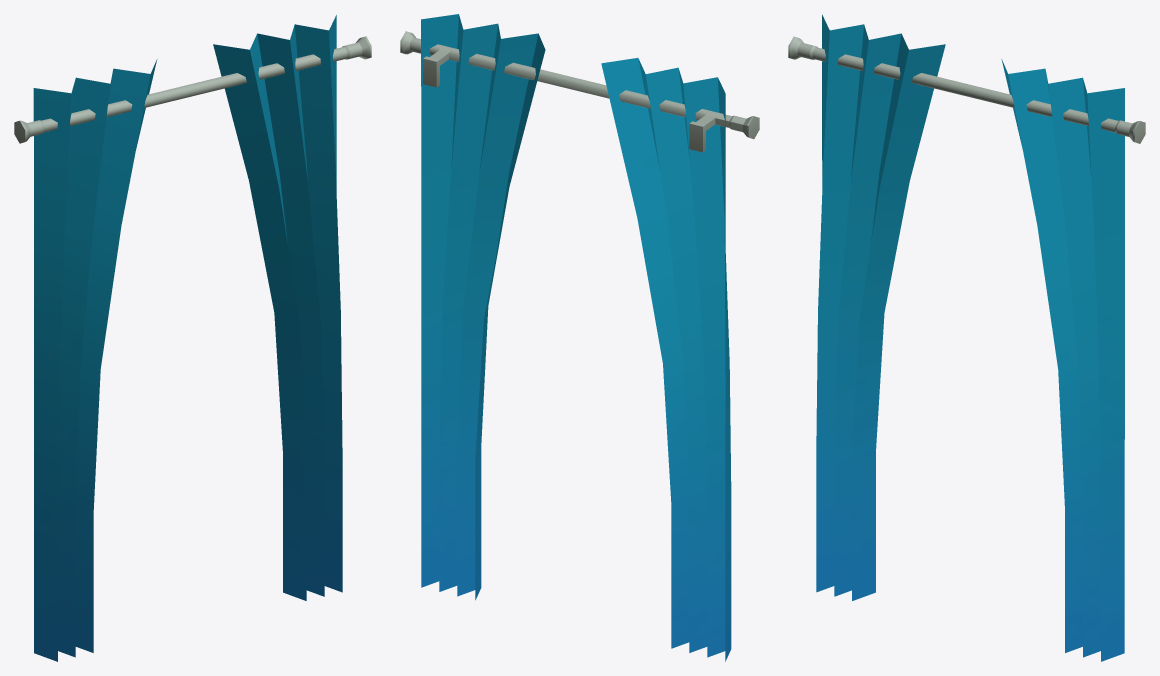
Rendered from SM_Curtain_3_01.fbx.
3 renders of one model, left to right at view 1: azimuth 30°, elevation 25°; view 2: azimuth 150°, elevation 25°; view 3: azimuth 330°, elevation 25°, orthographic.
Visible parts, largest first — view 1: SM_Curtain_3_01; view 2: SM_Curtain_3_01; view 3: SM_Curtain_3_01.
Boxes of the visible parts, box(x1,y1,x2,y2) form: SM_Curtain_3_01: box(14, 15, 371, 661); SM_Curtain_3_01: box(400, 14, 759, 661); SM_Curtain_3_01: box(788, 14, 1145, 661).
Size of the model in its own units: 165 by 257 by 20.28.
